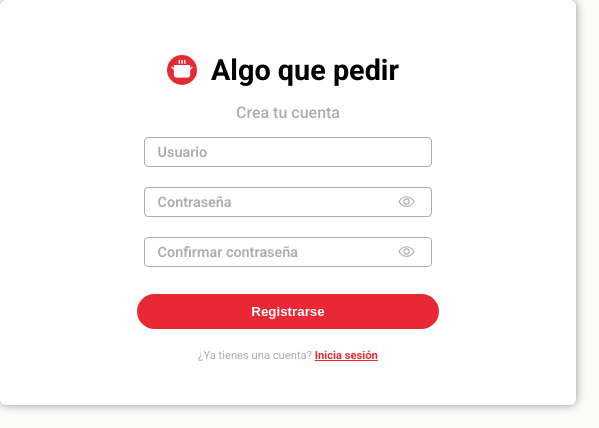
Test: auth tests › muestra error si las contraseñas no coinciden
The image size is (599, 428).
Type "testuser" into the field with test id "input-usuario" at (288, 152), box [144,137,432,167]
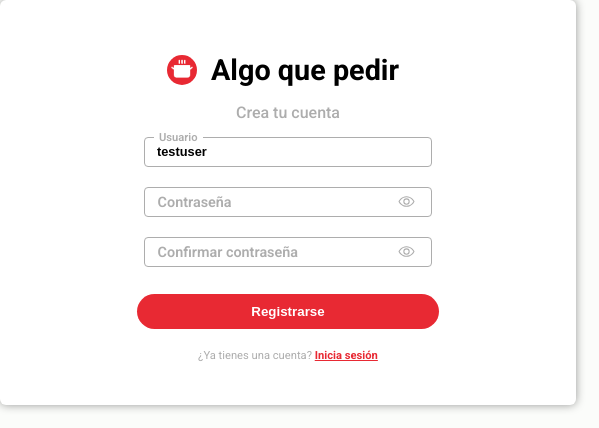
Type "abc1234" into the password field with test id "input-password" at (288, 202), box [144,187,432,217]
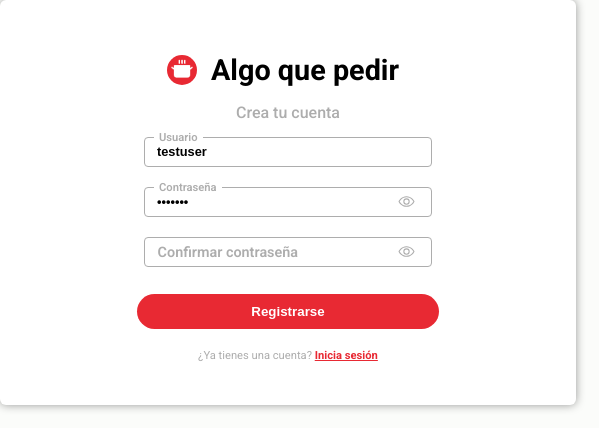
Type "abc1235" into the password field with test id "input-confirm-password" at (288, 252), box [144,237,432,267]
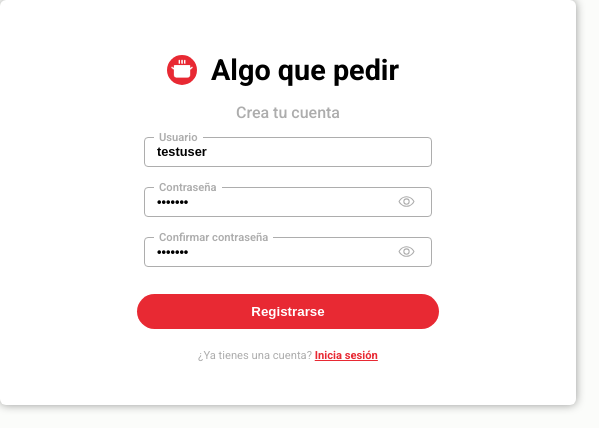
Click the button with test id "btn-submit" at (288, 312), box [137,294,439,329]
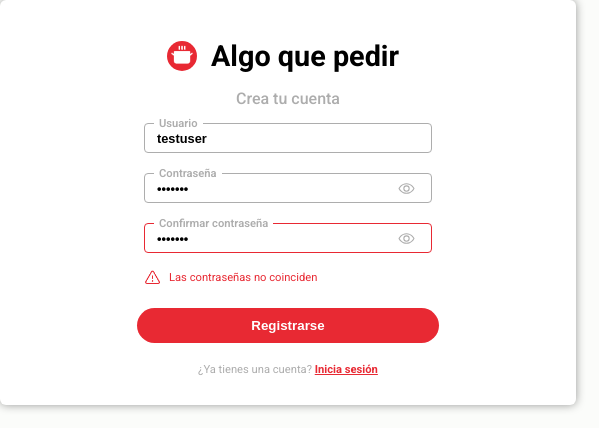
Now the element with test id "error-msg" reads "Las contraseñas no coinciden", box [169,271,317,284]
